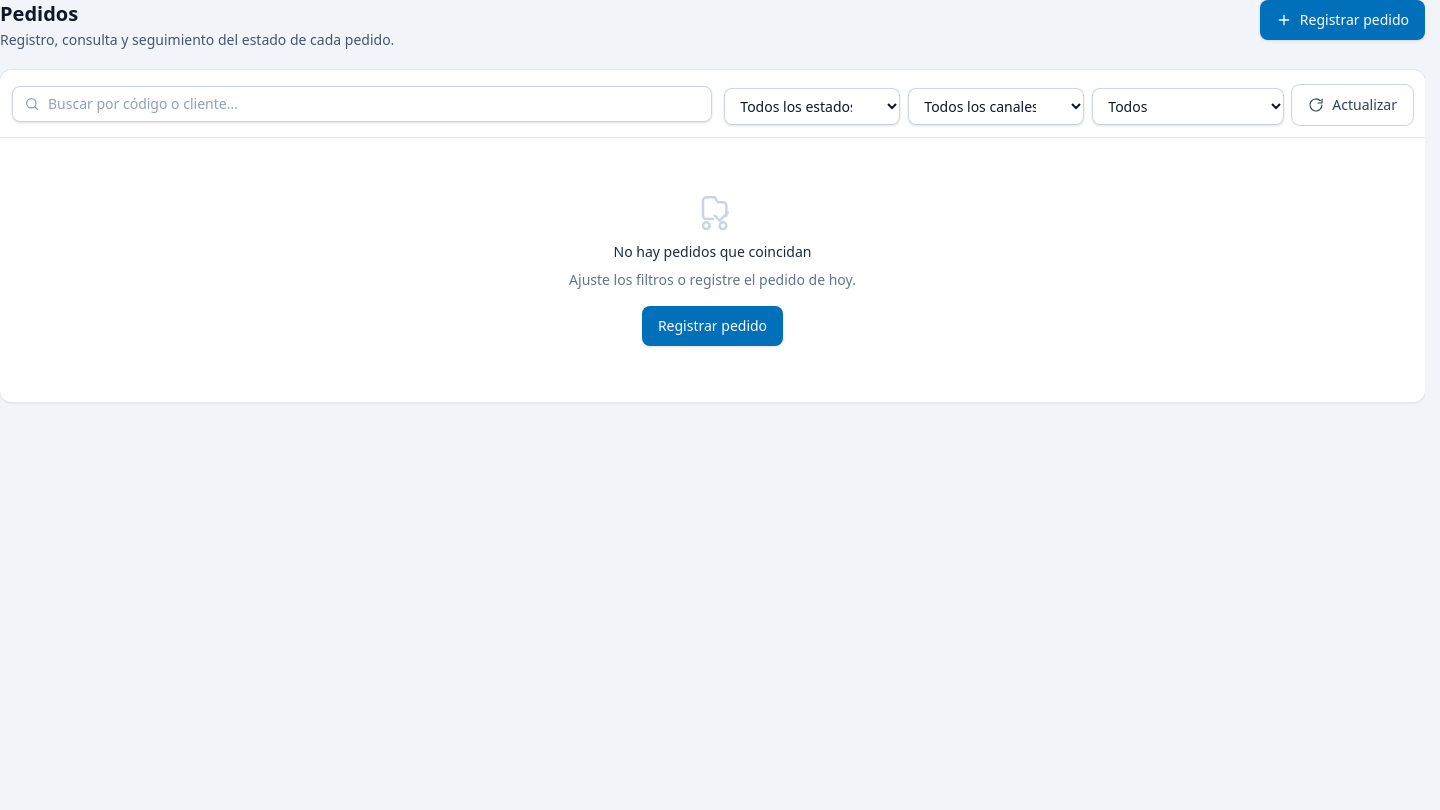
Scenario: autocompletado de cliente › elegir un cliente muestra su ficha y rellena la entrega
The image size is (1440, 810).
Click the 1st button "Registrar pedido": (1342, 20) x1=1260 y1=0 x2=1425 y2=40
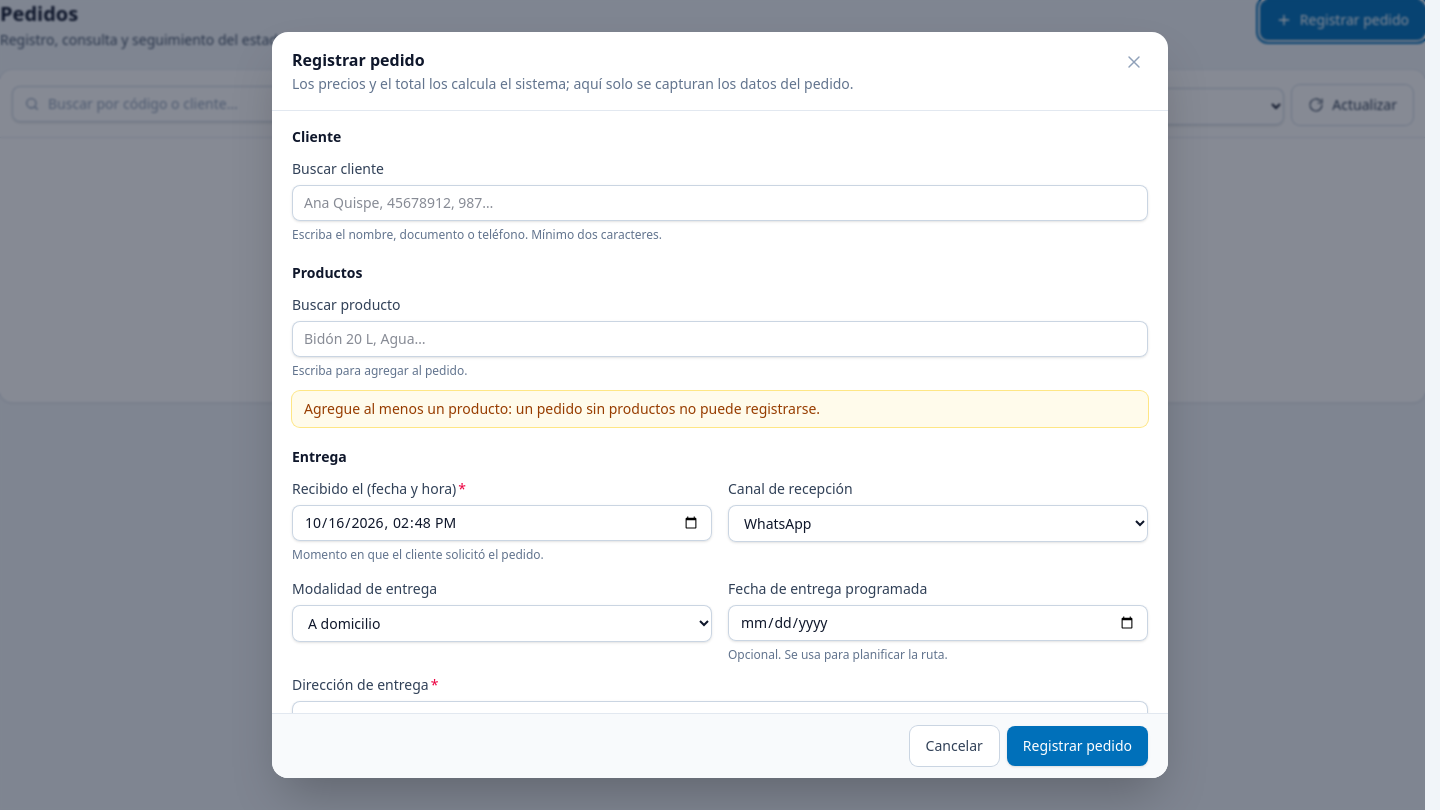
In the field labelled "Buscar cliente": (720, 203) x1=292 y1=185 x2=1148 y2=221, type "Qu"
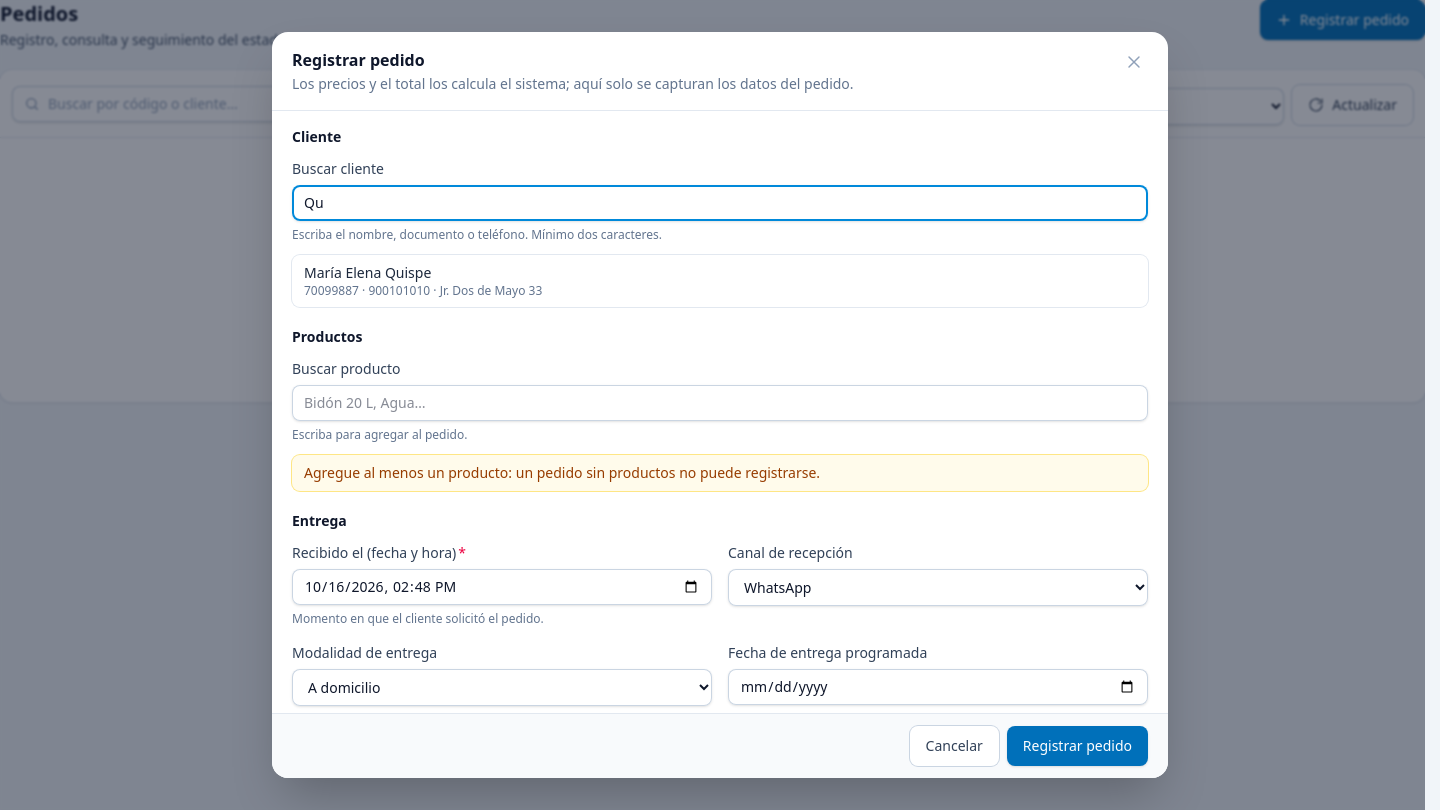
Click the button "María Elena Quispe 70099887 · 900101010 · Jr. Dos de Mayo 33": (368, 273) x1=292 y1=255 x2=1148 y2=307
(page scrolled)
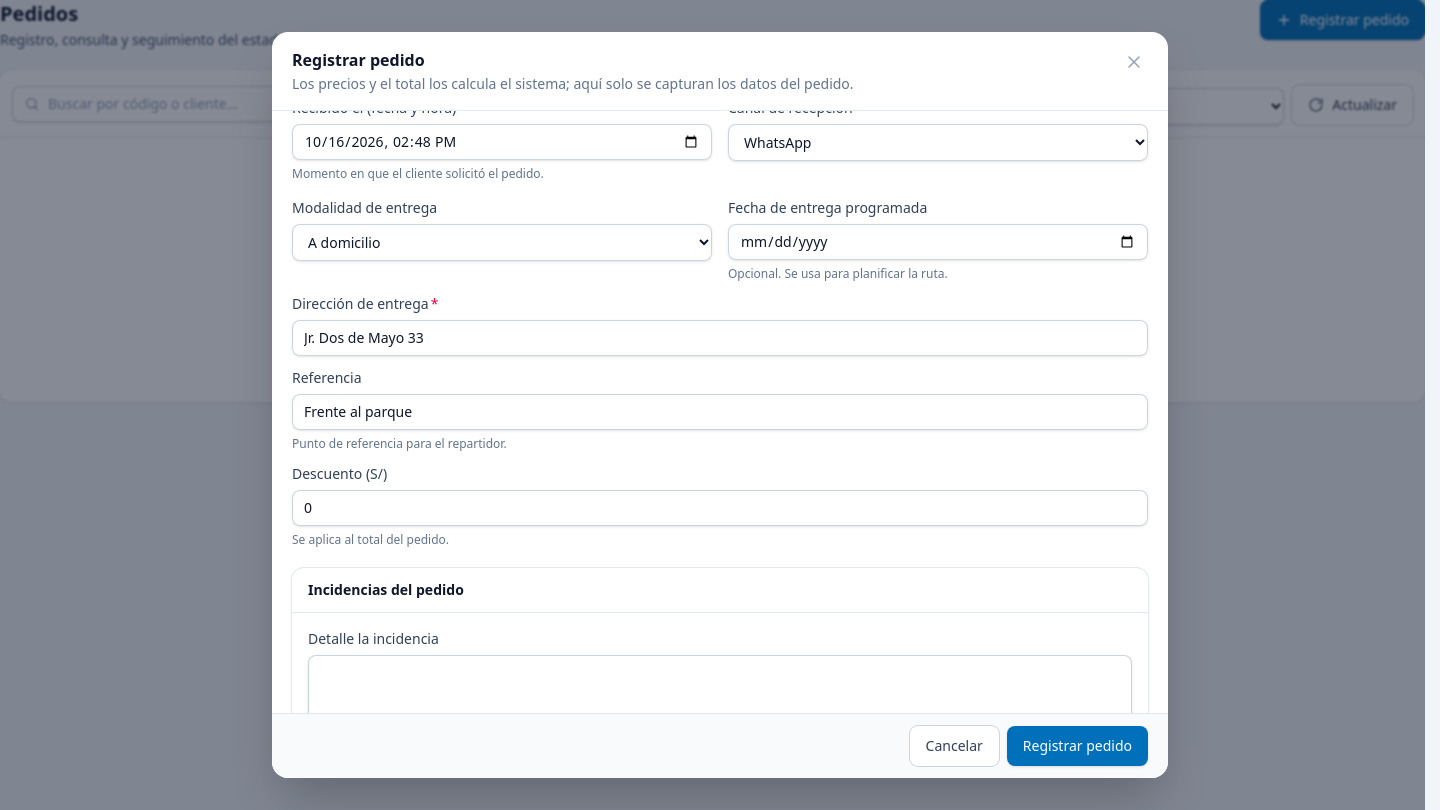
expect the field labelled "Dirección de entrega*" holds "Jr. Dos de Mayo 33": met, box x1=292 y1=320 x2=1148 y2=356
expect the field labelled "Referencia" holds "Frente al parque": met, box x1=292 y1=394 x2=1148 y2=430
